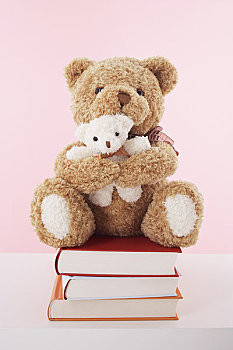book: (44, 248, 192, 279), (44, 299, 183, 323), (58, 279, 185, 301)
